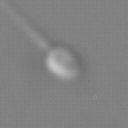normal: (1, 1, 50, 48)
